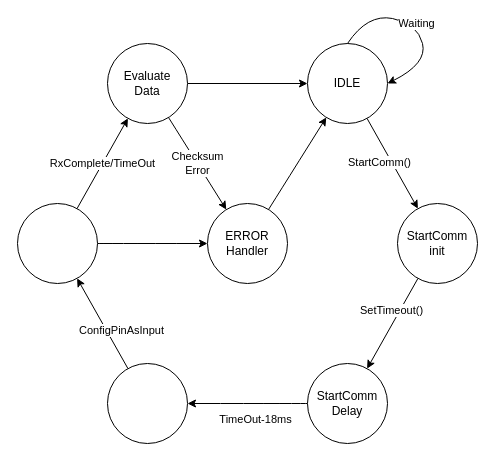
Some shapes in this 495 by 462 pixel diagram are drawn without their labels. Each missing label, with the centre of its shape:
"RxData" belongs at [57,243].
"StartComm End" belongs at [147,403].
